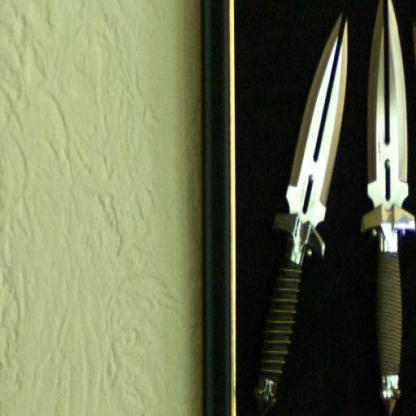knife: (270, 0, 355, 415), (355, 0, 415, 415)
